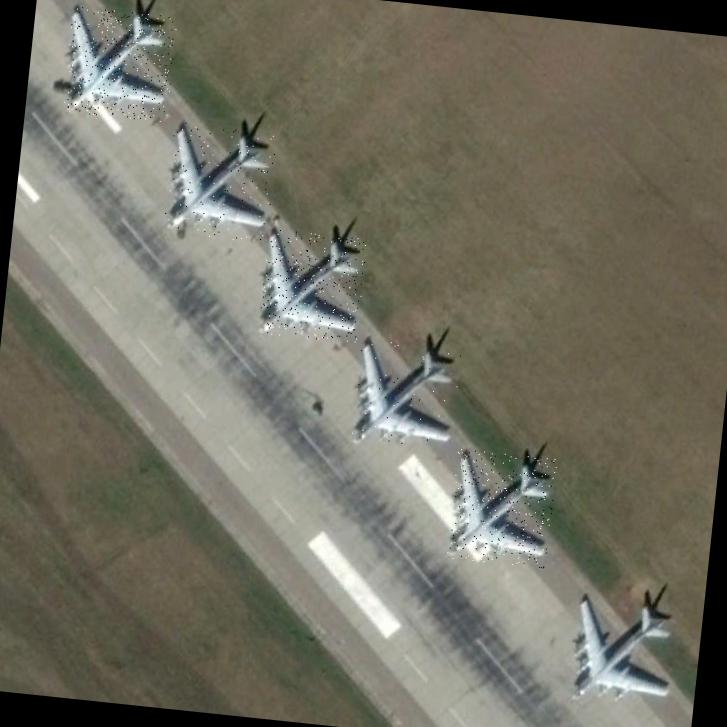A17: (162, 121, 278, 244), (62, 6, 178, 122), (446, 448, 557, 568), (350, 338, 464, 454), (570, 594, 680, 708), (258, 228, 367, 343)
